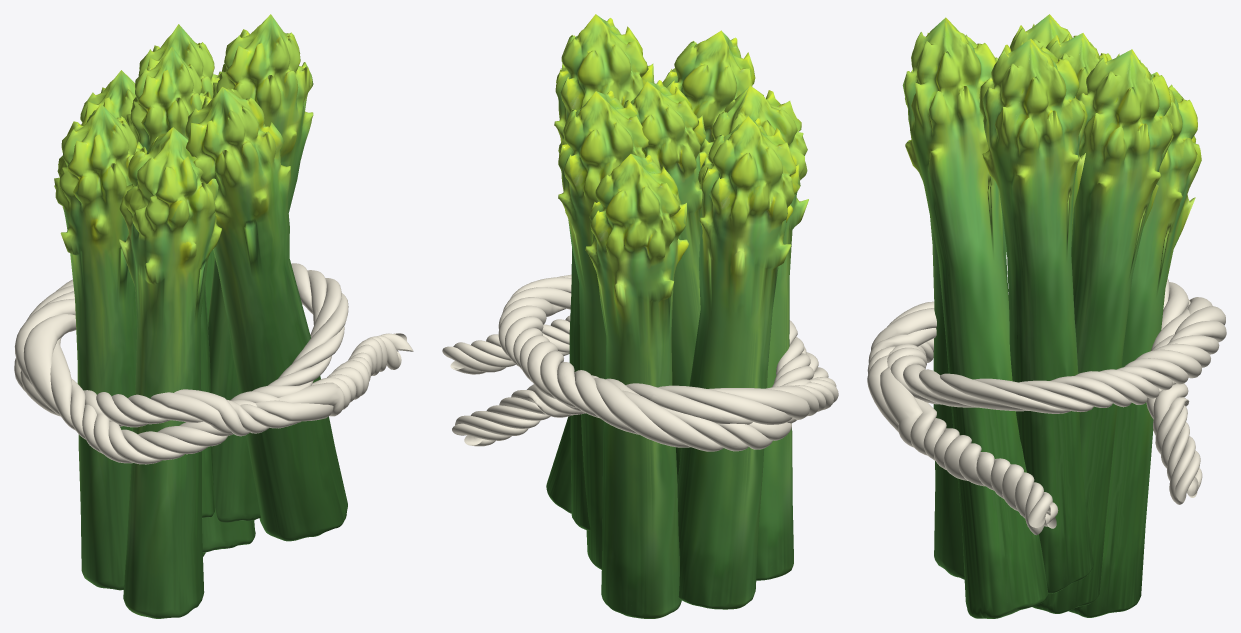
File: loosun.glb
The picture shows the model from 3 angles, left to right: view 1: azimuth 30°, elevation 25°; view 2: azimuth 150°, elevation 25°; view 3: azimuth 270°, elevation 25°; orthographic projection. The views are drawn at different scales.
Parts seen in each view (by area): view 1: object; view 2: object; view 3: object.
Part boxes in pixels (bbox=[...]): object: bbox=[14, 14, 413, 618]; object: bbox=[442, 14, 838, 618]; object: bbox=[867, 14, 1226, 618].
Bounding box in the file's own units: 0.9617 × 1.38 × 0.7437.
2 materials, 1 textured.
